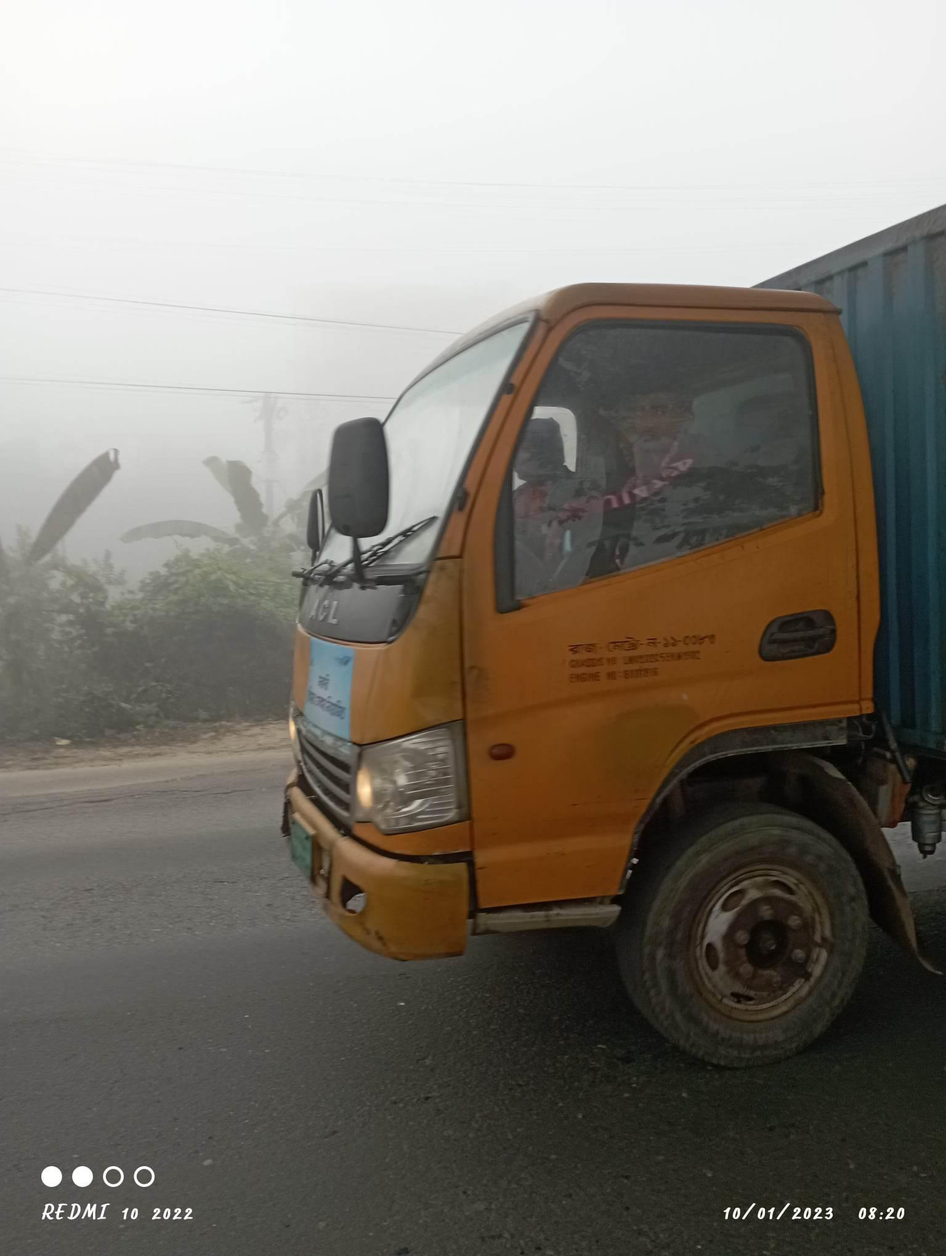Truck: (245, 206, 945, 1081)
